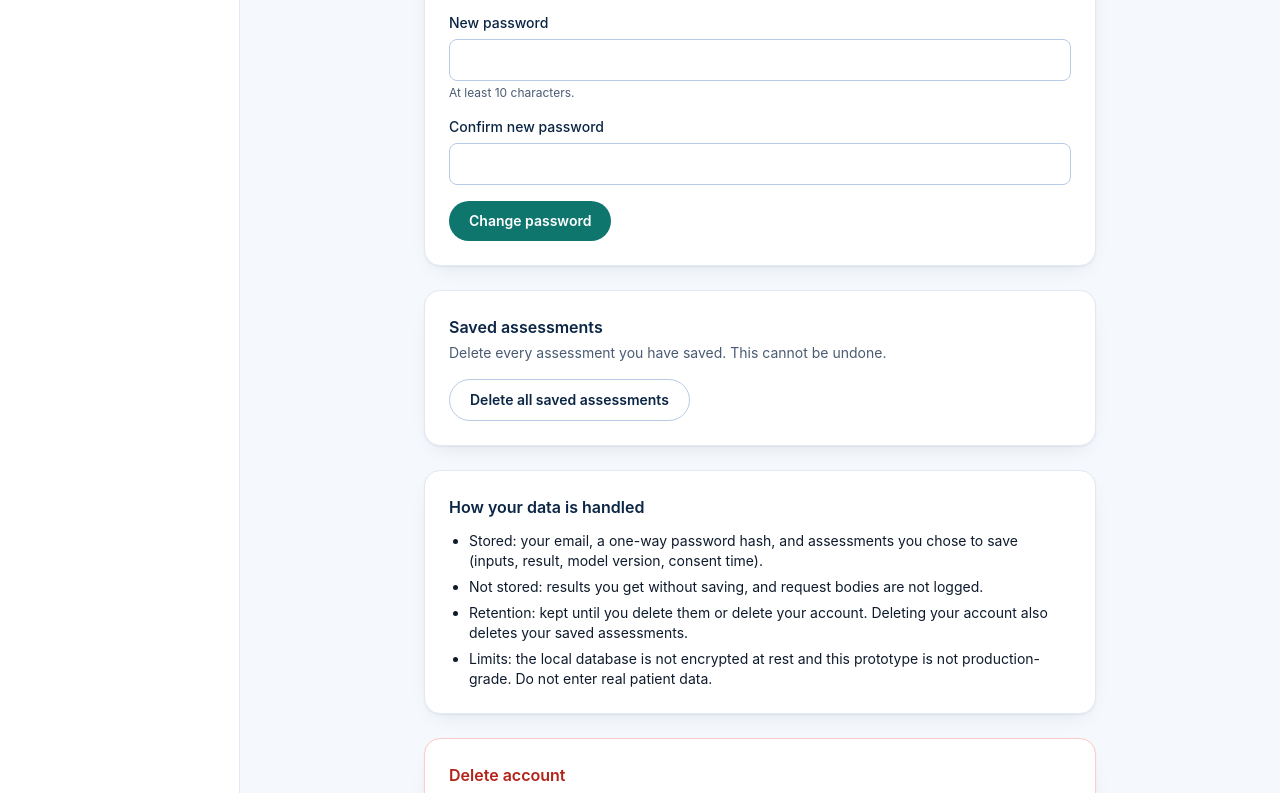
Scenario: settings › deletes all saved assessments only after confirmation
The image size is (1280, 793).
(page scrolled)
Click the button "Delete all saved assessments" at point(569, 400), box [449,379,690,421]
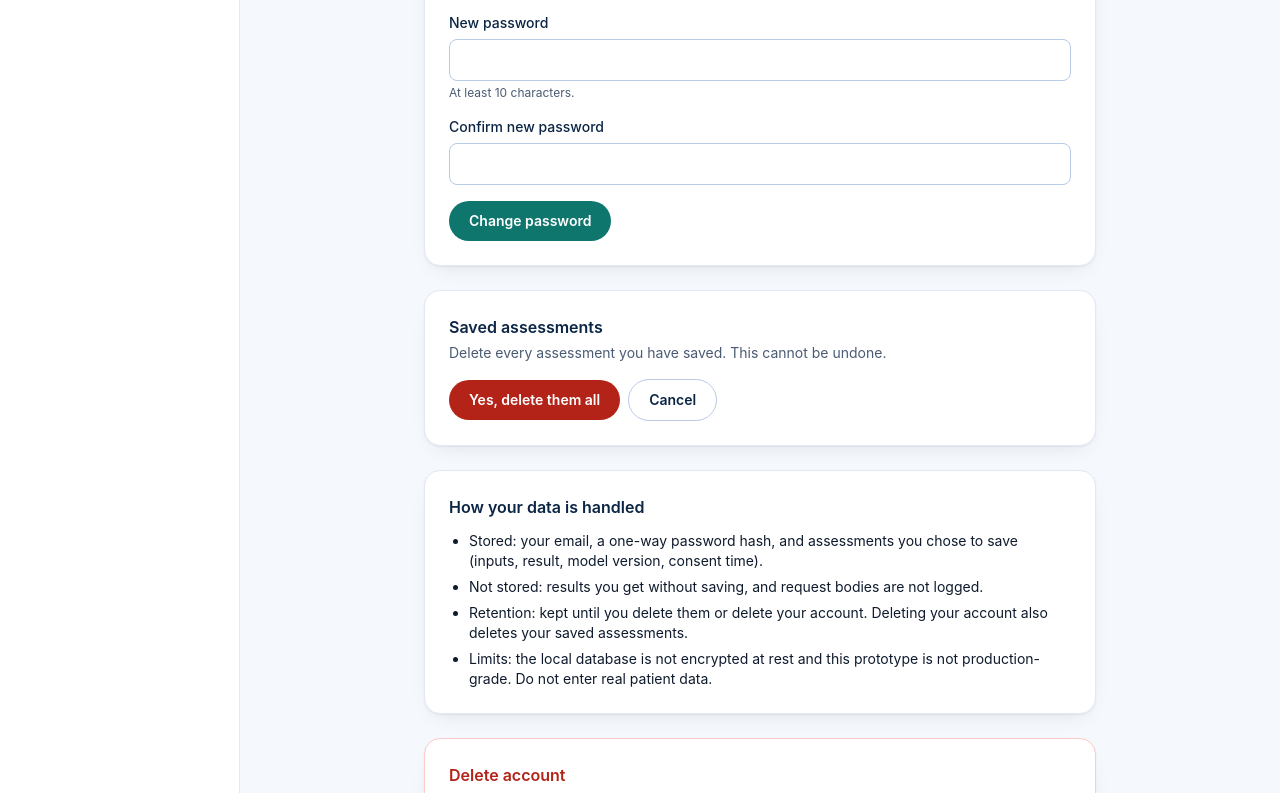
Click the button "Yes, delete them all" at point(535, 400), box [449,380,620,420]
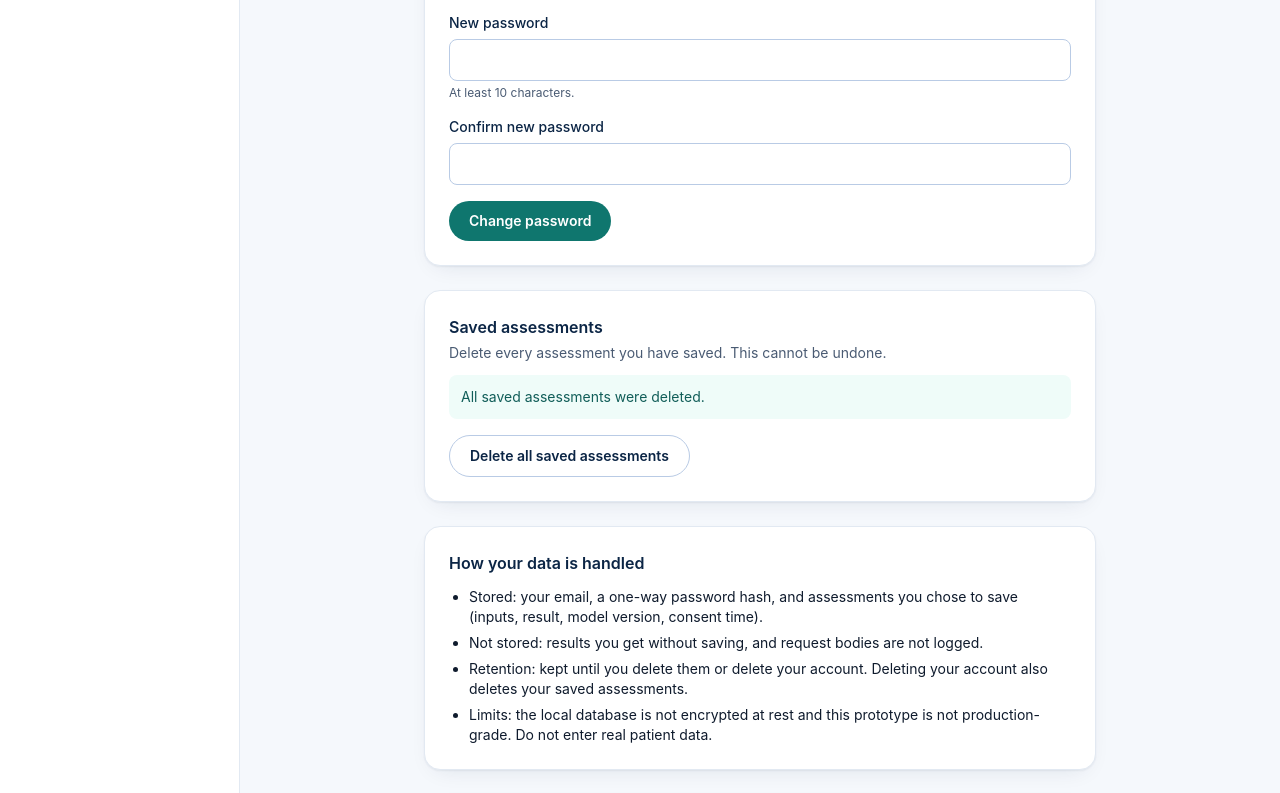
Expected: the text "All saved assessments were deleted." is shown, [449,375,1071,419]
